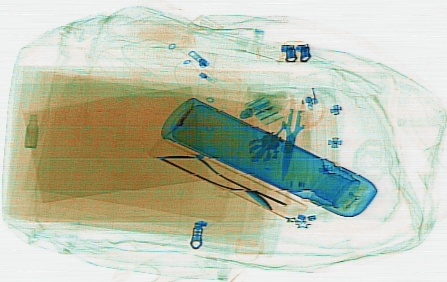scissors: (264, 89, 325, 182)
